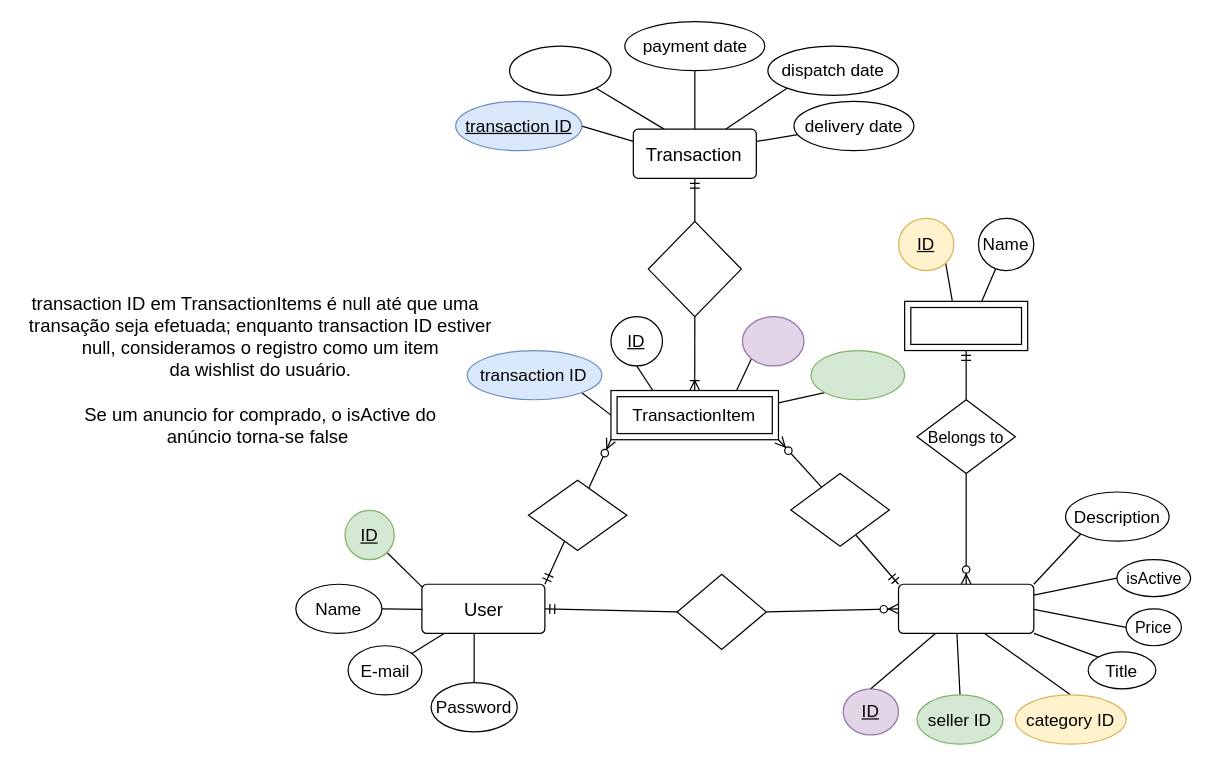
The diagram is 1213 pixels wide and 766 high, and some of its shapes have lost their labels. Each missing label, with the centre of its shape:
ad ID: the point at 772,340
Advertisement: the point at 965,608
buyer ID: the point at 857,374
Category: the point at 965,325
Creates: the point at 721,611
Is associated with: the point at 694,268
Is saved as: the point at 839,509
Saves ads as: the point at 577,514
total cost: the point at 559,70
